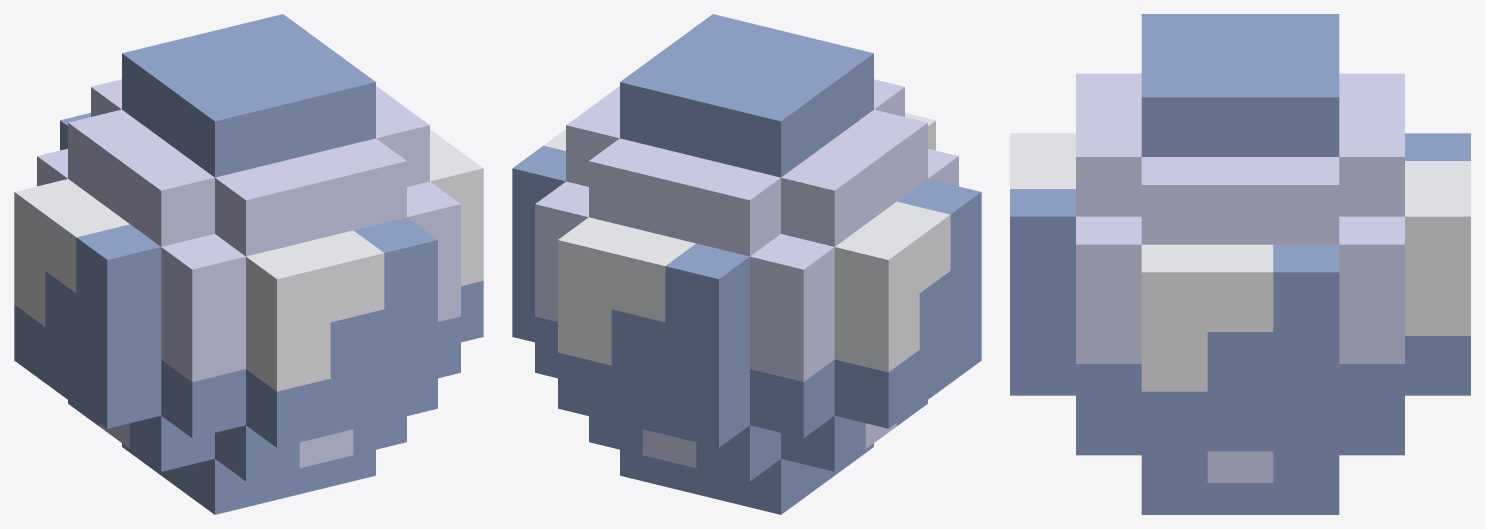
The model's file is Moonstone Orb.glb.
3 views of the same model, side by side, from view 1: azimuth 30°, elevation 25°; view 2: azimuth 150°, elevation 25°; view 3: azimuth 270°, elevation 25° (orthographic). The views are drawn at different scales.
Visible parts, largest first — view 1: Cube.065, Cube.072, Cube.150, Cube.168, Cube.157, Cube.063, Cube.066, Cube.064, Cube.166, Cube.170, Cube.158, Cube.156 (+40 smaller); view 2: Cube.102, Cube.109, Cube.120, Cube.138, Cube.127, Cube.100, Cube.103, Cube.101, Cube.136, Cube.140, Cube.128, Cube.126 (+40 smaller); view 3: Cube.034, Cube.071, Cube.108, Cube.059, Cube.062, Cube.096, Cube.099, Cube.022, Cube.025, Cube.124, Cube.154, Cube.119 (+39 smaller).
Boxes of the visible parts, x1,y1,x2,y2 form: Cube.065: (76,224,161,316); Cube.072: (130,155,214,246); Cube.150: (215,164,299,256); Cube.168: (246,243,330,335); Cube.157: (161,234,245,325); Cube.063: (184,85,268,177); Cube.066: (76,350,161,428); Cube.064: (76,294,161,372); Cube.166: (246,313,330,391); Cube.170: (246,369,330,447); Cube.158: (161,360,245,438); Cube.156: (161,303,245,381); Cube.102: (834,224,919,316); Cube.109: (781,155,865,246); Cube.120: (696,164,780,256); Cube.138: (665,243,749,335); Cube.127: (750,234,834,325); Cube.100: (727,85,811,177); Cube.103: (834,350,919,428); Cube.101: (834,294,919,372); Cube.136: (665,313,749,391); Cube.140: (665,369,749,447); Cube.128: (750,360,834,438); Cube.126: (750,303,834,381); Cube.034: (1207,157,1273,244); Cube.071: (1141,157,1207,244); Cube.108: (1273,157,1339,244); Cube.059: (1141,244,1207,331); Cube.062: (1141,69,1207,156); Cube.096: (1273,244,1339,331); Cube.099: (1273,69,1339,156); Cube.022: (1207,244,1273,331); Cube.025: (1207,69,1273,156); Cube.124: (1339,216,1404,304); Cube.154: (1076,216,1141,304); Cube.119: (1339,129,1404,216).
Size of the model in its own units: 7 by 7 by 7.
1 material, 1 textured.
